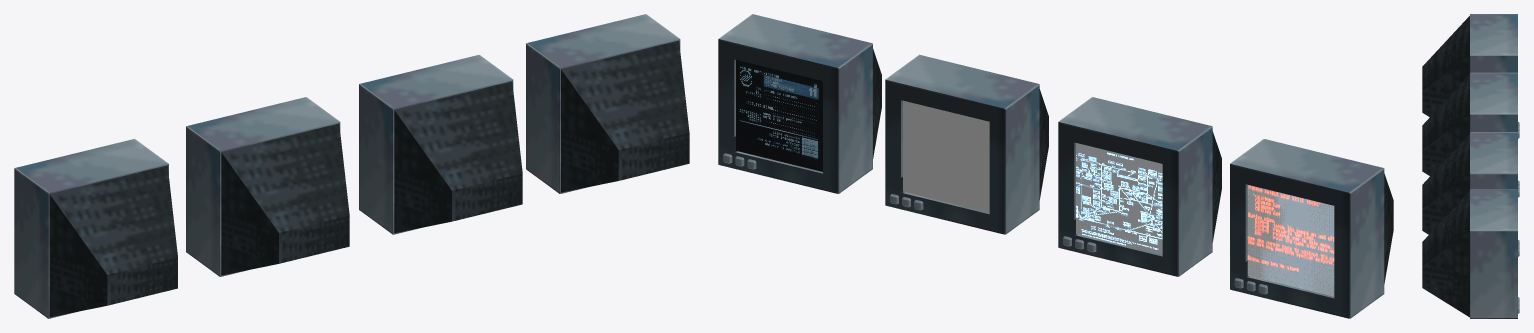
The model's file is Crt.fbx.
The picture shows the model from 3 angles, left to right: view 1: azimuth 30°, elevation 25°; view 2: azimuth 150°, elevation 25°; view 3: azimuth 270°, elevation 25°; orthographic projection. The views are drawn at different scales.
Parts seen in each view (by area): view 1: CrtVer4, CrtVer2, CrtVer3, CrtVer1; view 2: CrtVer1, CrtVer3, CrtVer2, CrtVer4; view 3: CrtVer1, CrtVer3, CrtVer4, CrtVer2.
Part boxes in pixels (x1,y1,x2,y2): CrtVer4: [14, 139, 177, 318]; CrtVer2: [359, 54, 522, 234]; CrtVer3: [186, 97, 349, 276]; CrtVer1: [526, 14, 689, 193]; CrtVer1: [718, 14, 881, 193]; CrtVer3: [1058, 97, 1221, 276]; CrtVer2: [885, 54, 1048, 234]; CrtVer4: [1230, 139, 1393, 318]; CrtVer1: [1422, 189, 1519, 318]; CrtVer3: [1422, 72, 1519, 197]; CrtVer4: [1422, 14, 1519, 138]; CrtVer2: [1422, 132, 1519, 256].
Bounding box in the file's own units: 382 × 72.58 × 72.68.
Materials: 6 (3 with a texture image).
